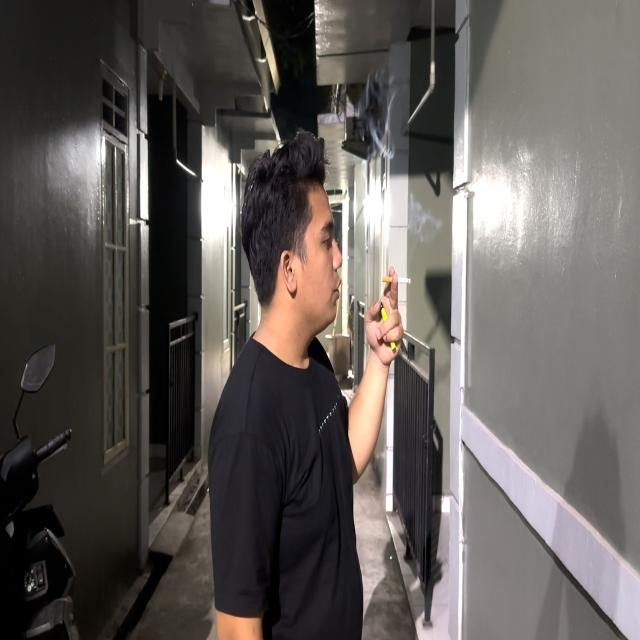cigarette: (381, 275, 411, 285)
smoking: (239, 128, 411, 487)
